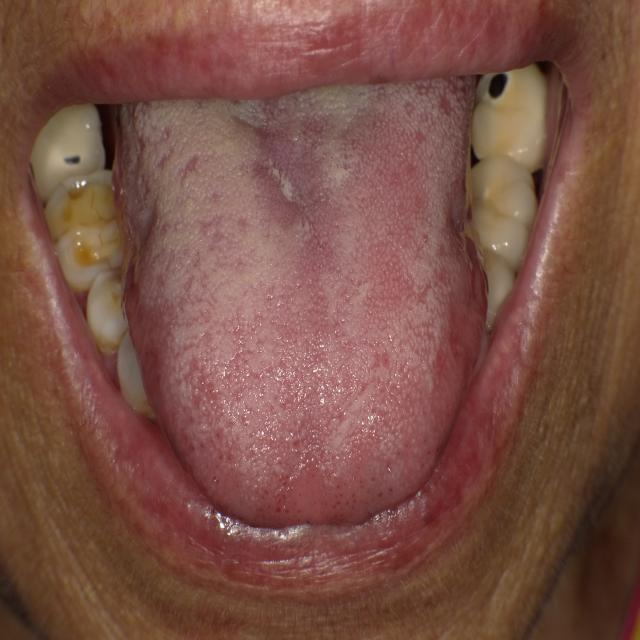chihenshe: (441, 280, 488, 375)
hongdianshe: (375, 489, 385, 501), (216, 451, 226, 463)
huangtaishe: (112, 70, 488, 524)
piweiao: (204, 107, 378, 220)
